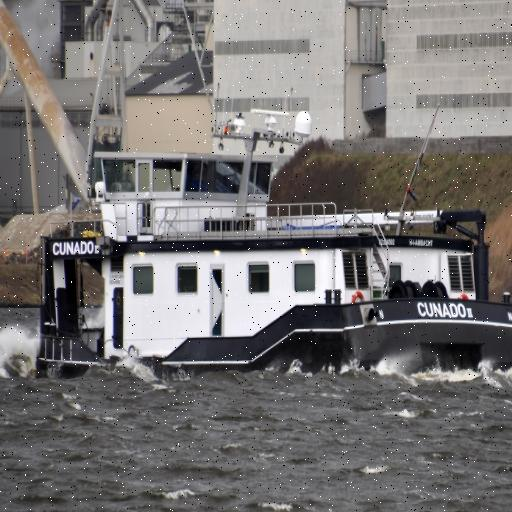tugboat: (29, 105, 512, 396)
